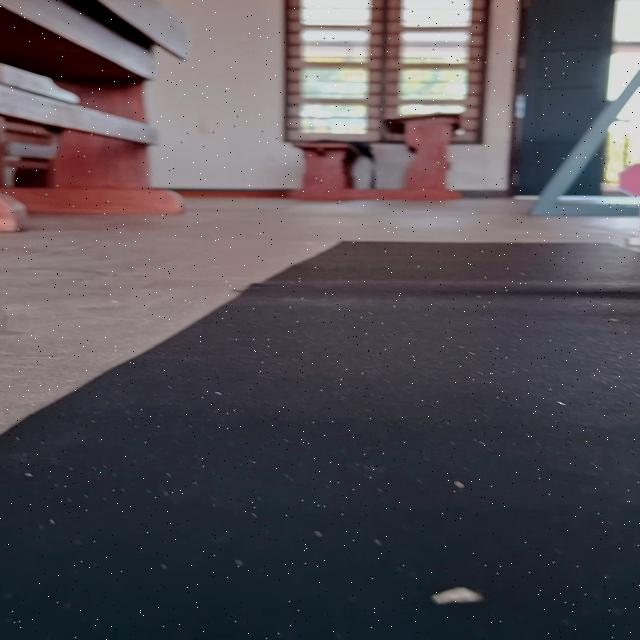Stop: (617, 162, 640, 198)
